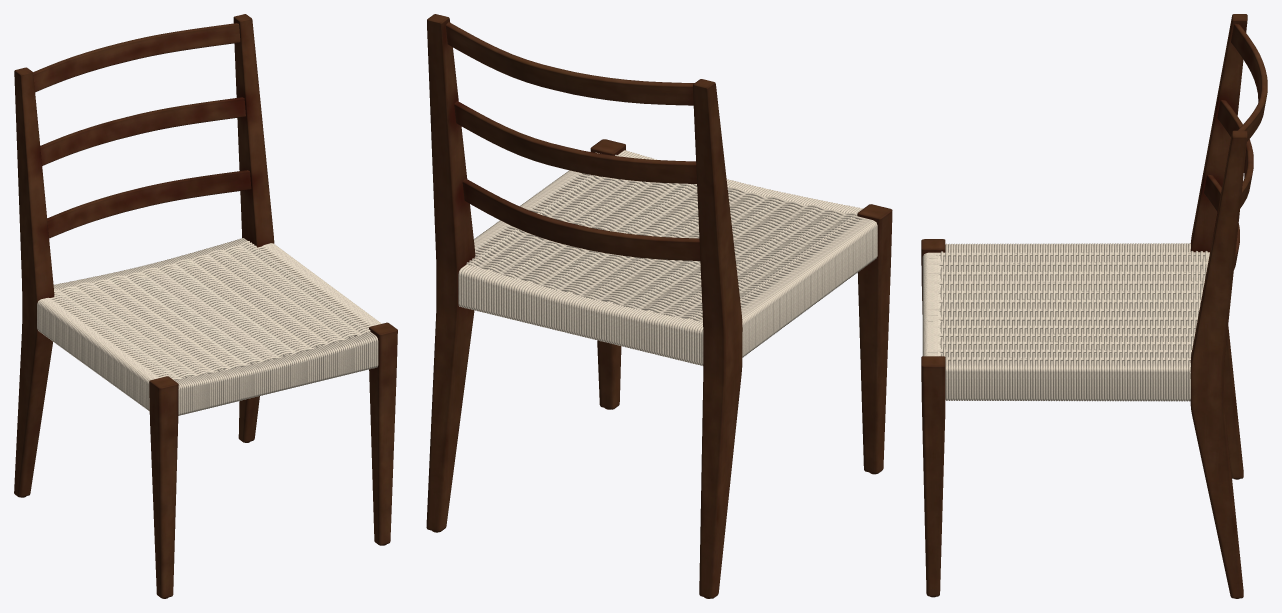
3 views of the same model, side by side, from view 1: azimuth 30°, elevation 25°; view 2: azimuth 150°, elevation 25°; view 3: azimuth 270°, elevation 25° (orthographic). The views are drawn at different scales.
Visible parts, largest first — view 1: RootNode; view 2: RootNode; view 3: RootNode.
Part boxes in pixels (x1,y1,x2,y2): RootNode: [14, 14, 397, 598]; RootNode: [426, 14, 892, 598]; RootNode: [921, 14, 1267, 598].
Size of the model in its own units: 0.4801 by 0.8128 by 0.5512.
1 material, 1 textured.
